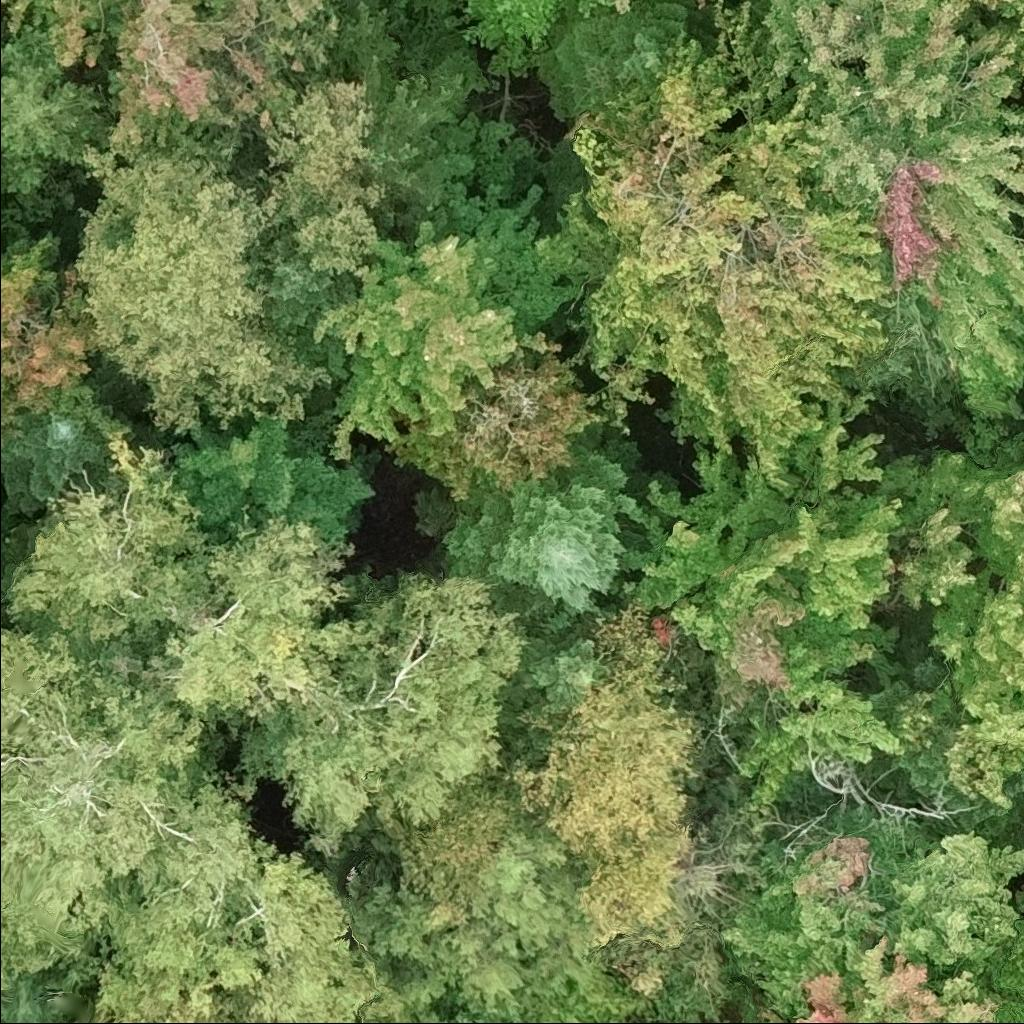crown: (535, 0, 900, 472), (620, 422, 915, 814), (757, 0, 1023, 424), (0, 609, 258, 951), (237, 569, 529, 863), (73, 129, 329, 439), (311, 182, 584, 462), (505, 597, 707, 947), (881, 410, 1023, 818), (91, 835, 391, 1023), (138, 506, 379, 734), (718, 830, 997, 1023), (347, 817, 605, 1023), (0, 425, 215, 657), (0, 0, 329, 145), (435, 423, 649, 629), (157, 401, 378, 548), (830, 809, 1023, 977), (385, 353, 600, 499), (255, 74, 388, 278), (526, 0, 713, 123), (0, 11, 123, 193), (0, 237, 101, 450), (244, 213, 364, 368), (0, 406, 132, 514), (507, 612, 608, 711), (464, 0, 561, 75), (77, 988, 275, 1023), (0, 912, 60, 992), (0, 968, 63, 1023), (972, 0, 1023, 18), (577, 0, 615, 17), (613, 0, 639, 11), (1016, 61, 1023, 94), (1012, 11, 1023, 30), (697, 0, 722, 7), (646, 1019, 659, 1023), (0, 187, 3, 199), (1023, 150, 1023, 152)
